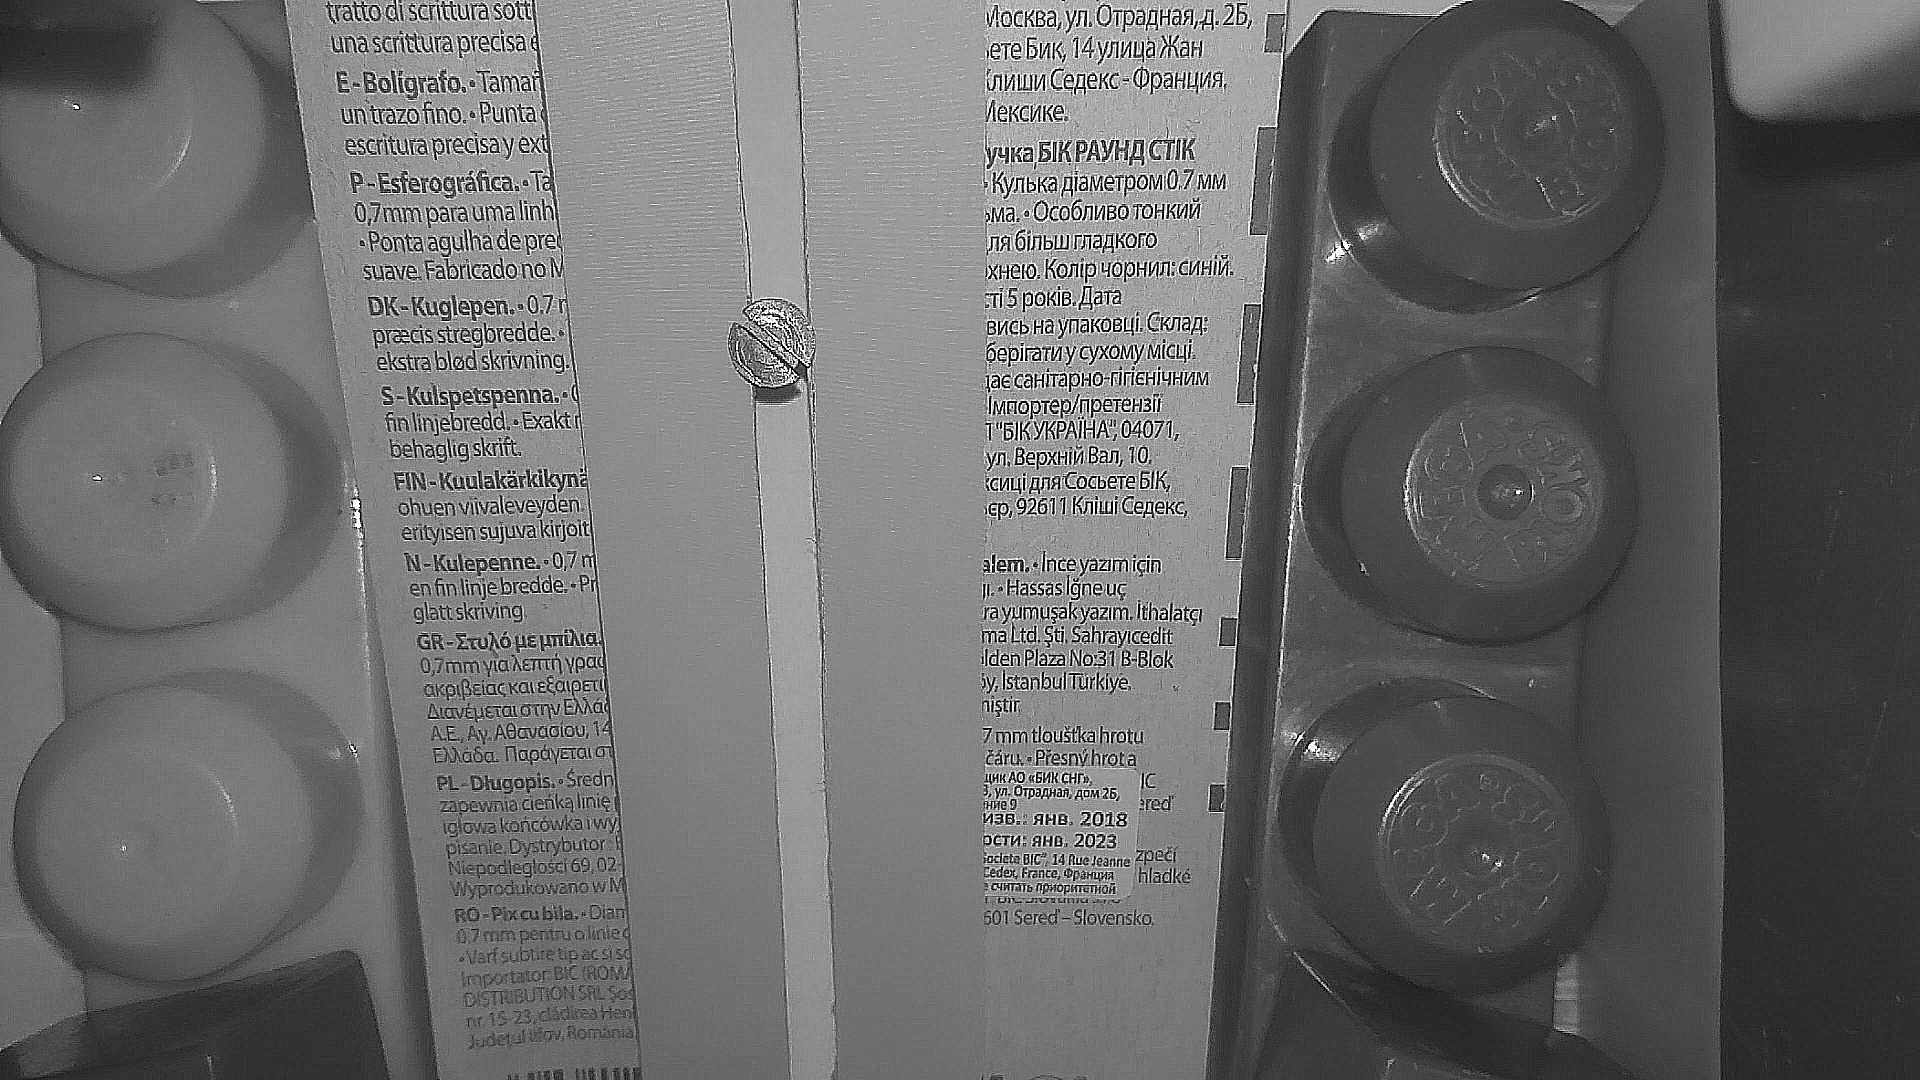i: (729, 299, 814, 389)
